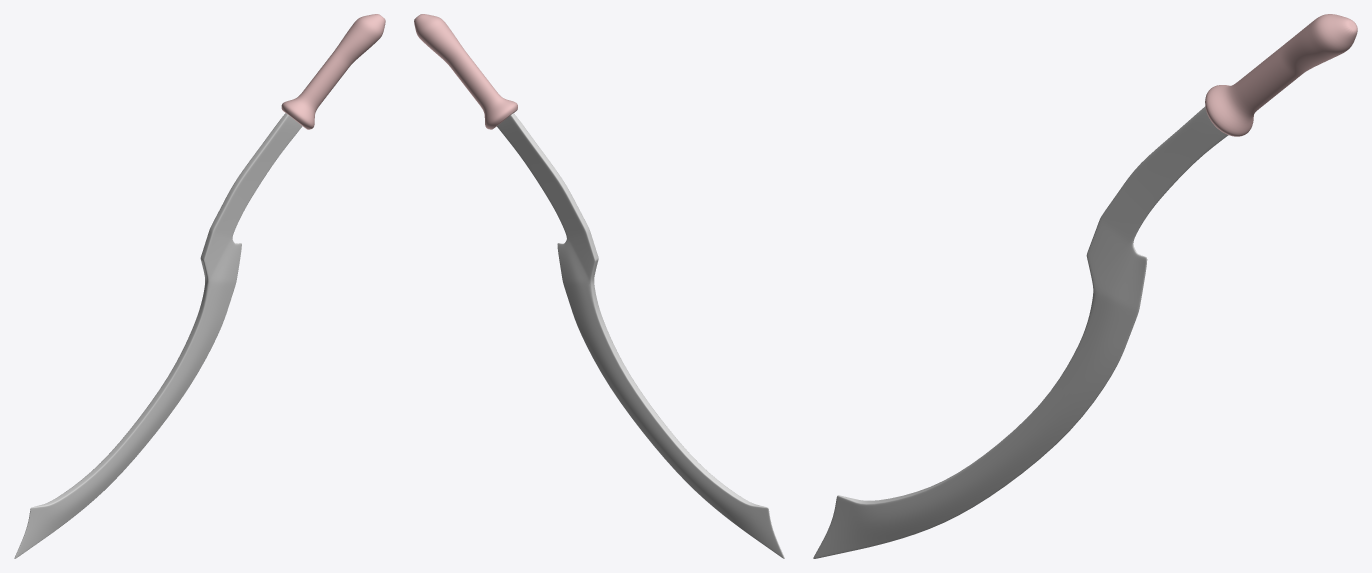
File: Khopesh.fbx
3 views of the same model, side by side, from view 1: azimuth 30°, elevation 25°; view 2: azimuth 150°, elevation 25°; view 3: azimuth 330°, elevation 25° (orthographic). The views are drawn at different scales.
Visible parts, largest first — view 1: Khopesh; view 2: Khopesh; view 3: Khopesh.
Boxes of the visible parts, bbox=[...] form: Khopesh: bbox=[14, 14, 385, 558]; Khopesh: bbox=[414, 14, 784, 558]; Khopesh: bbox=[813, 14, 1357, 558].
Bounding box in the file's own units: 0.7273 × 0.8568 × 0.067.
